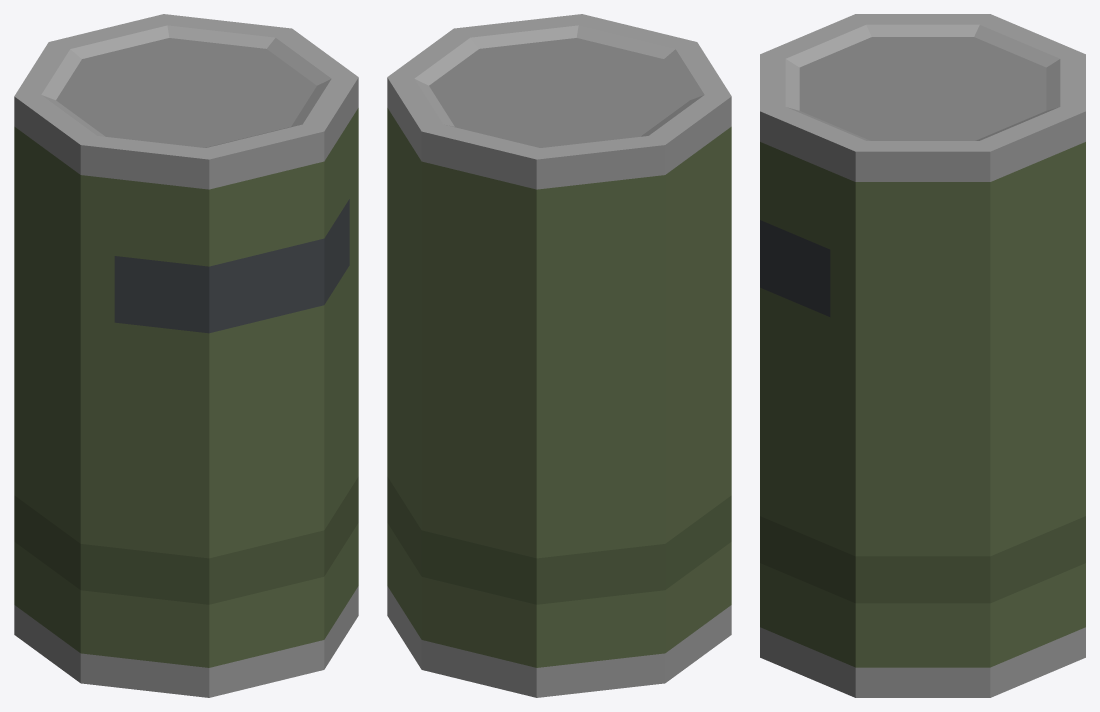
The model's file is SM_Food_CannedFood_06.fbx.
The picture shows the model from 3 angles, left to right: view 1: azimuth 30°, elevation 25°; view 2: azimuth 150°, elevation 25°; view 3: azimuth 270°, elevation 25°; orthographic projection.
Parts seen in each view (by area): view 1: SM_Food_CannedFood_06; view 2: SM_Food_CannedFood_06; view 3: SM_Food_CannedFood_06.
Boxes of the visible parts, <box> form: SM_Food_CannedFood_06: <box>14,14,358,697</box>; SM_Food_CannedFood_06: <box>387,14,731,697</box>; SM_Food_CannedFood_06: <box>760,14,1085,697</box>.
Size of the model in its own units: 0.0891 by 0.1649 by 0.0891.
